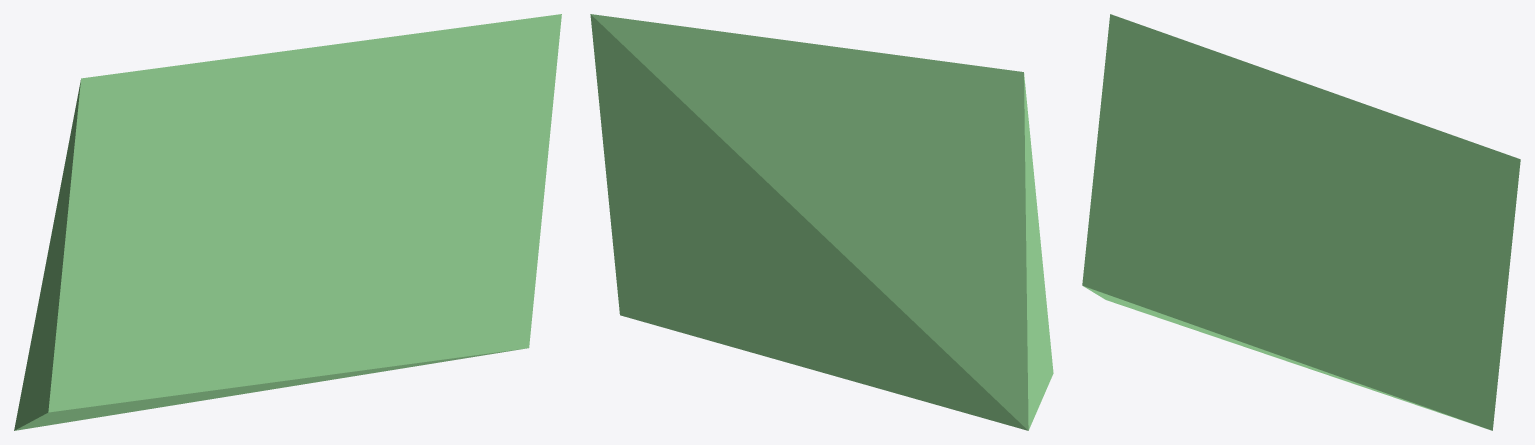
Rendered from UMIRobot_robot_base_coll_21.dae.
The picture shows the model from 3 angles, left to right: view 1: azimuth 30°, elevation 25°; view 2: azimuth 150°, elevation 25°; view 3: azimuth 330°, elevation 25°; orthographic projection. The views are drawn at different scales.
Visible parts, largest first — view 1: node; view 2: node; view 3: node.
Boxes of the visible parts, <box> form: node: <box>14,14,561,430</box>; node: <box>590,14,1053,430</box>; node: <box>1082,14,1520,430</box>.
Bounding box in the file's own units: 0.0577 × 0.0405 × 0.006.
